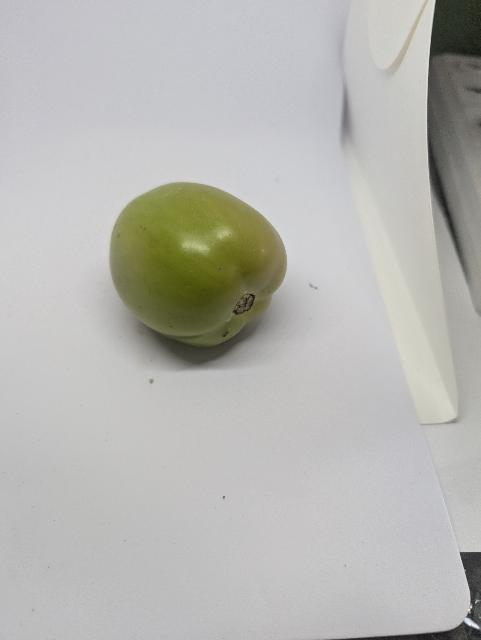green: (99, 176, 307, 363)
